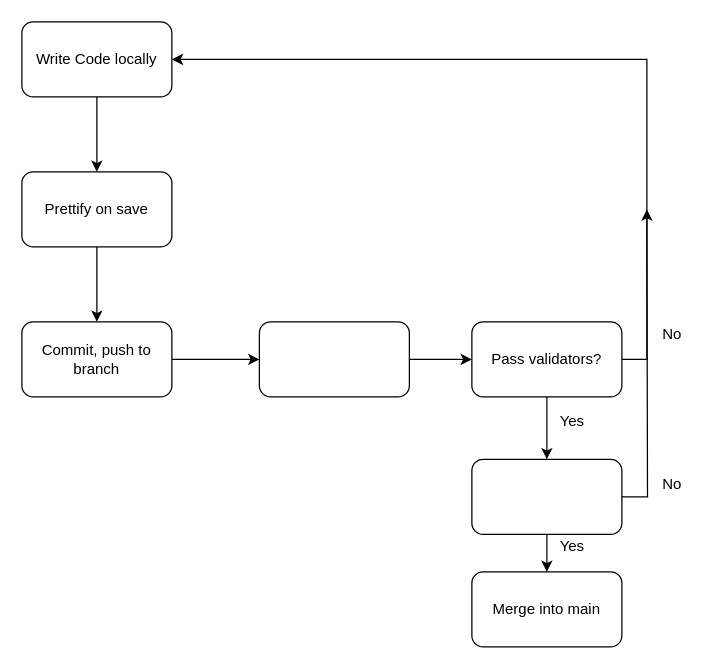
Image size: 713x669. Some labels were removed from this diagram. The shapes that lost their labels are listed below. From the top down, each one's centre as x and y in pixels, then its label:
the point at 333,359: Pull request to main
the point at 546,496: Pass codacy?
